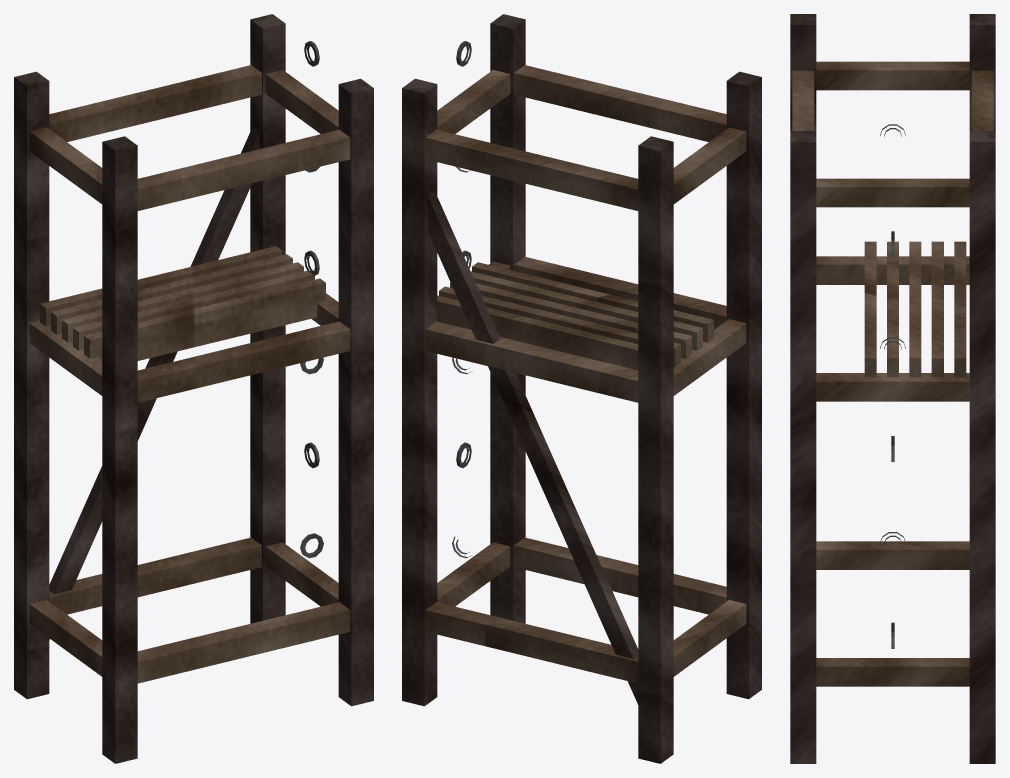
Rendered from 0428_scaffolding_03.glb.
The picture shows the model from 3 angles, left to right: view 1: azimuth 30°, elevation 25°; view 2: azimuth 150°, elevation 25°; view 3: azimuth 270°, elevation 25°; orthographic projection.
Visible parts, largest first — view 1: wood_dark, wood, iron; view 2: wood_dark, wood, iron; view 3: wood_dark, wood, iron.
Part boxes in pixels (<box>): wood_dark: <box>14,14,373,763</box>; wood: <box>29,65,350,683</box>; iron: <box>300,41,323,558</box>; wood_dark: <box>402,14,761,763</box>; wood: <box>425,65,746,683</box>; iron: <box>452,41,472,558</box>; wood_dark: <box>790,14,995,763</box>; wood: <box>792,61,993,686</box>; iron: <box>880,124,905,648</box>.
Bounding box in the file's own units: 1.5 × 3.46 × 1.02.
3 materials, 3 textured.
